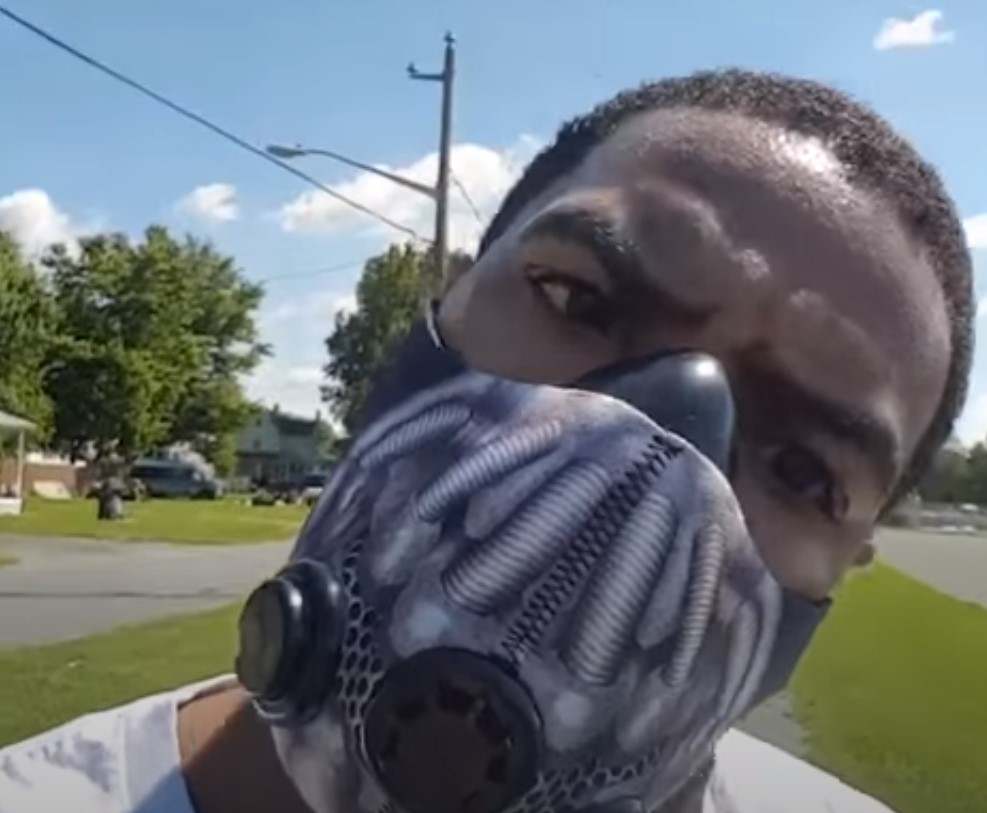face_with_mask: (230, 72, 970, 813)
